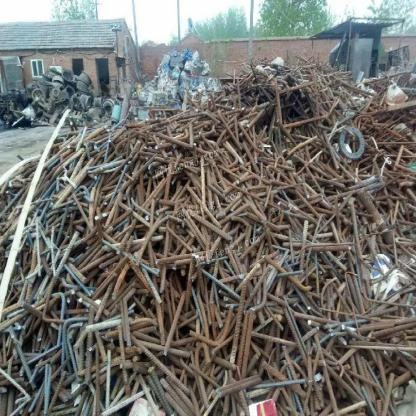rebar: (0, 58, 416, 415)
